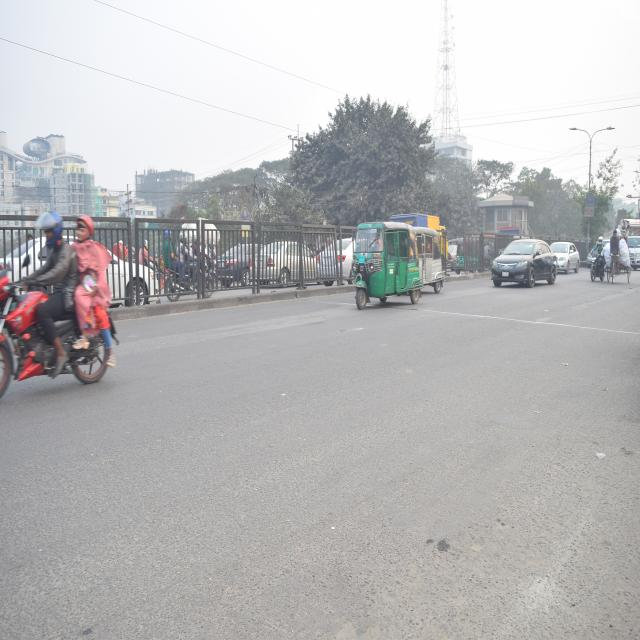car: (480, 231, 556, 294), (553, 231, 584, 275)
motorbike: (0, 226, 139, 408), (587, 244, 608, 281)
pickup-van: (627, 228, 640, 272)
